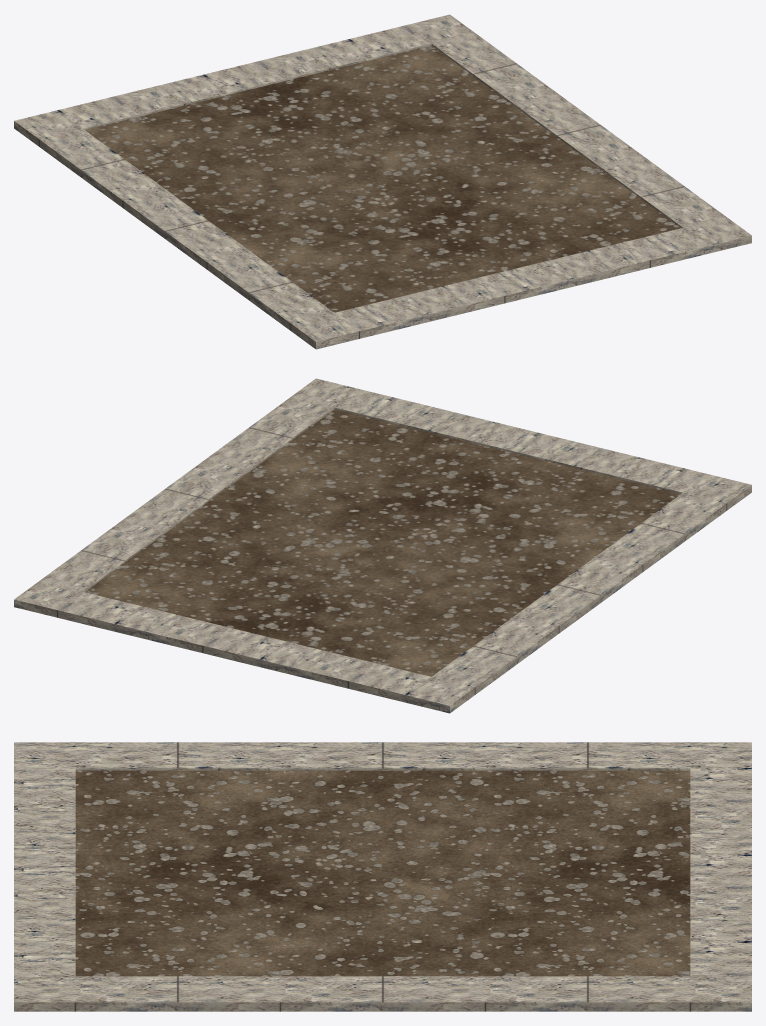
Rendered from SM_Pav_Aiuola_LOD1.fbx.
3 renders of one model, top to bottom at view 1: azimuth 30°, elevation 25°; view 2: azimuth 150°, elevation 25°; view 3: azimuth 270°, elevation 25°, orthographic. The views are drawn at different scales.
Parts seen in each view (by area): view 1: SM_Pav_Aiuola_LOD1; view 2: SM_Pav_Aiuola_LOD1; view 3: SM_Pav_Aiuola_LOD1.
Part boxes in pixels (x1,y1,x2,y2): SM_Pav_Aiuola_LOD1: (14,14,751,349); SM_Pav_Aiuola_LOD1: (14,378,751,713); SM_Pav_Aiuola_LOD1: (14,742,751,1011).
Bounding box in the file's own units: 300 × 360 × 5.
2 materials, 2 textured.
